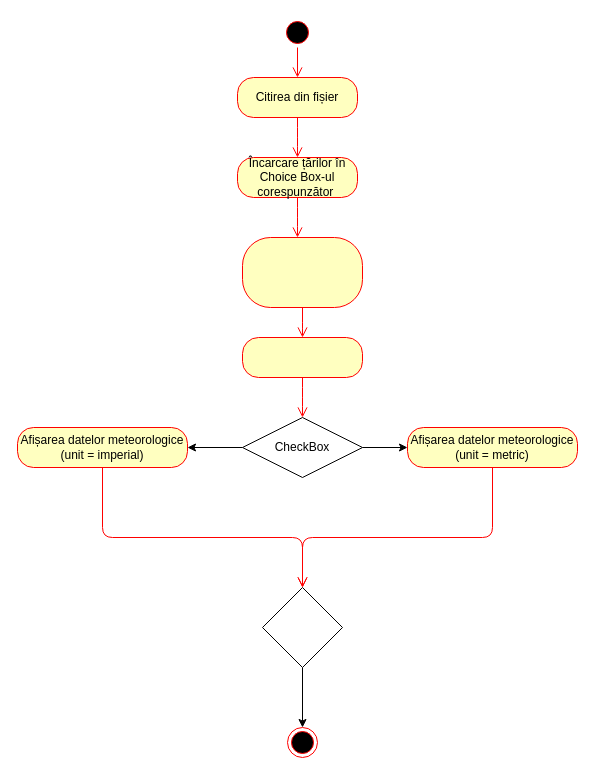
Image size: 595x775. Some labels were removed from this diagram. Each missing label, with the centre of its shape:
"Parsarea Json-ului" belongs at point 302,357.
"Încărcarea orașelor din țara selectată în Choice Box-ul corespunzător" belongs at point 302,272.
